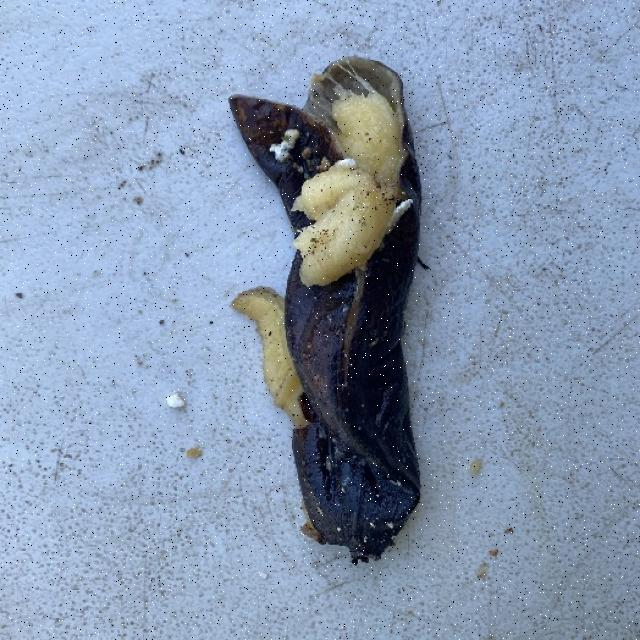organik: (225, 60, 430, 562)
